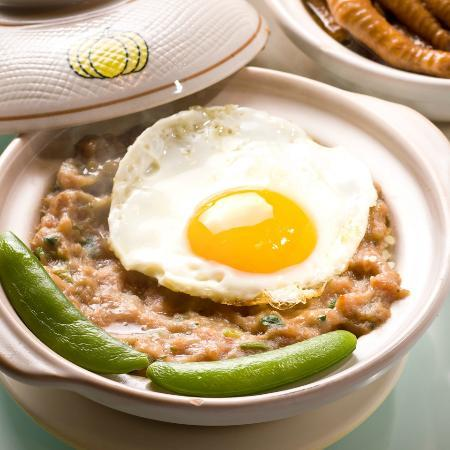fried egg: (136, 105, 360, 301)
